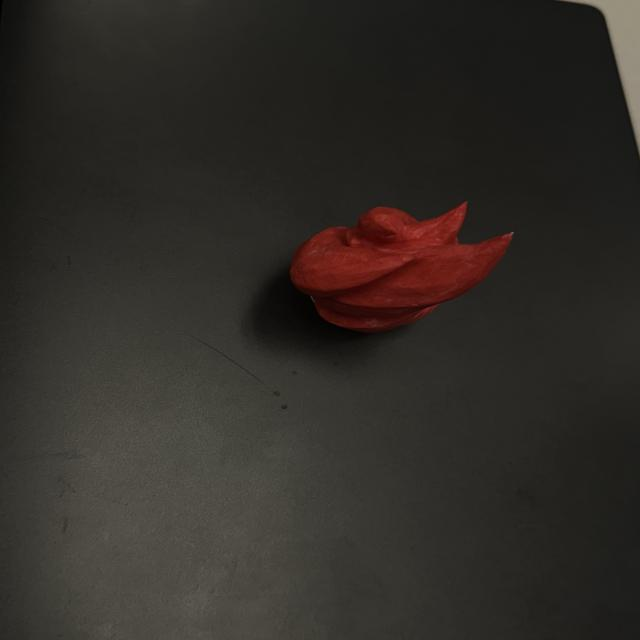fire: (286, 198, 516, 334)
